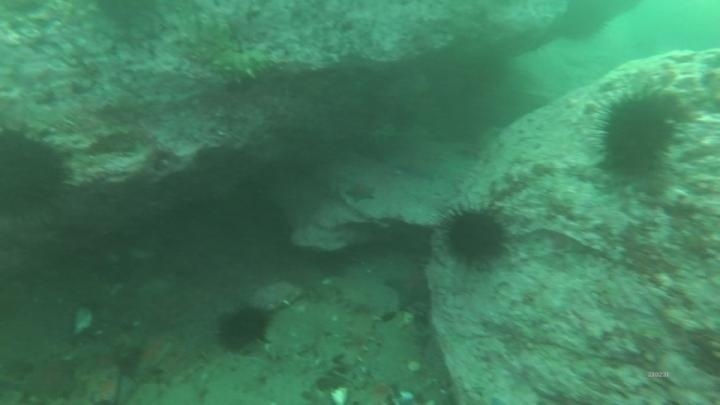echinus: (593, 87, 684, 183), (1, 123, 72, 219), (438, 201, 512, 270), (214, 302, 273, 354)
holothurian: (207, 42, 280, 88), (336, 304, 378, 374)
starfish: (19, 353, 82, 403), (127, 328, 179, 380), (382, 263, 426, 306), (82, 366, 130, 405), (342, 178, 379, 205)
